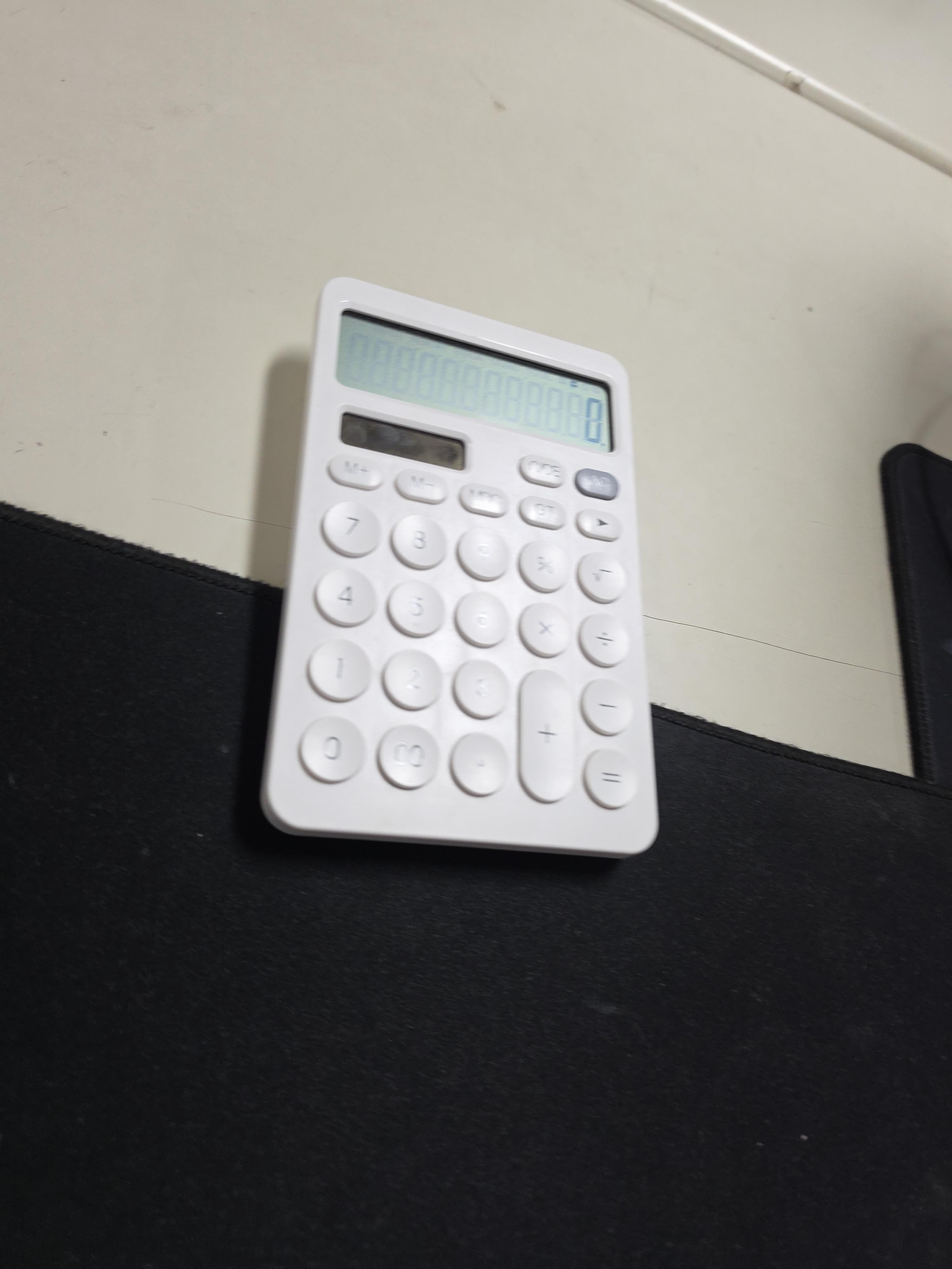calculator: (261, 277, 659, 859)
